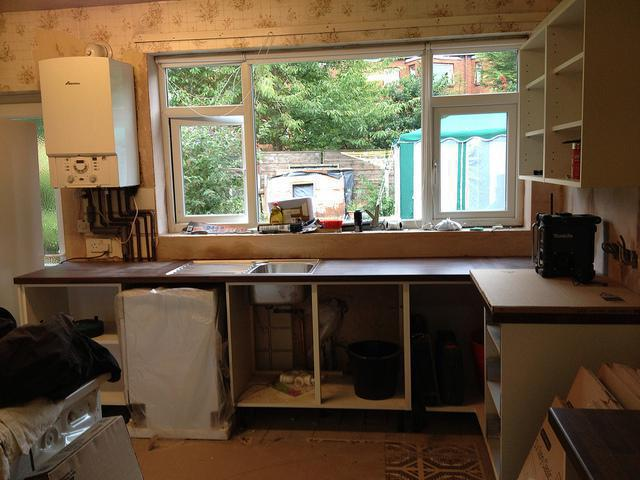Lavaplatos: (161, 248, 322, 308)
